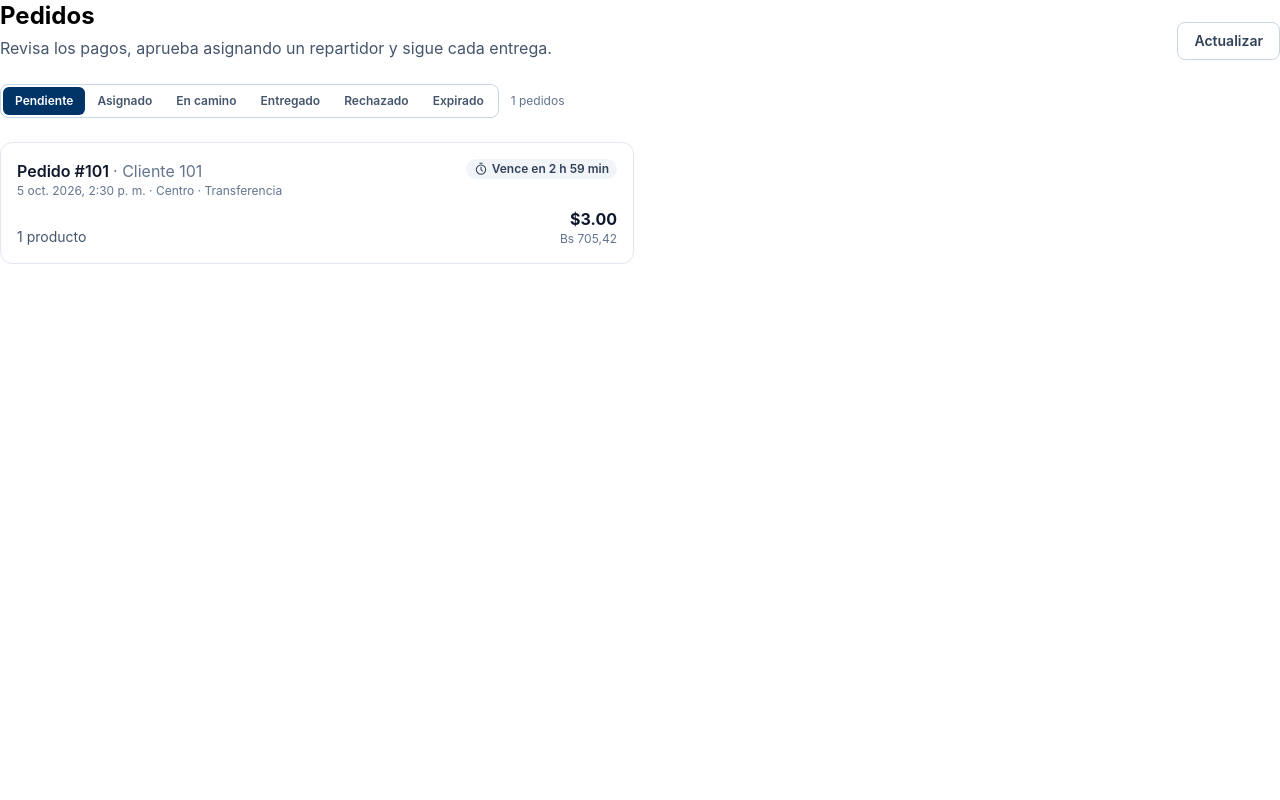
Test: Pedidos: detalle › el botón Cerrar cierra el detalle
Step 1. Click the button "Pedido #101" → (51,171), box [0, 142, 634, 264]
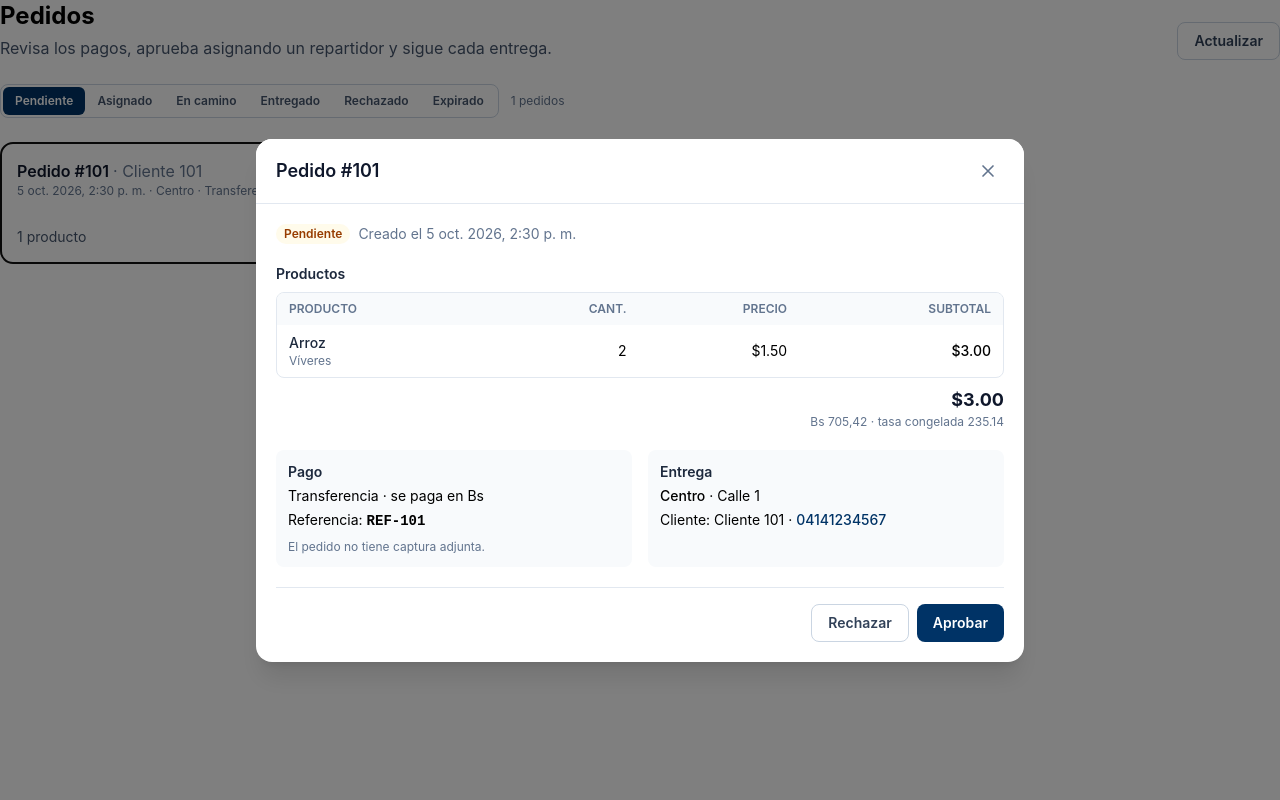
Step 2. Click the button named "Cerrar" → (988,170), box [972, 154, 1004, 186]
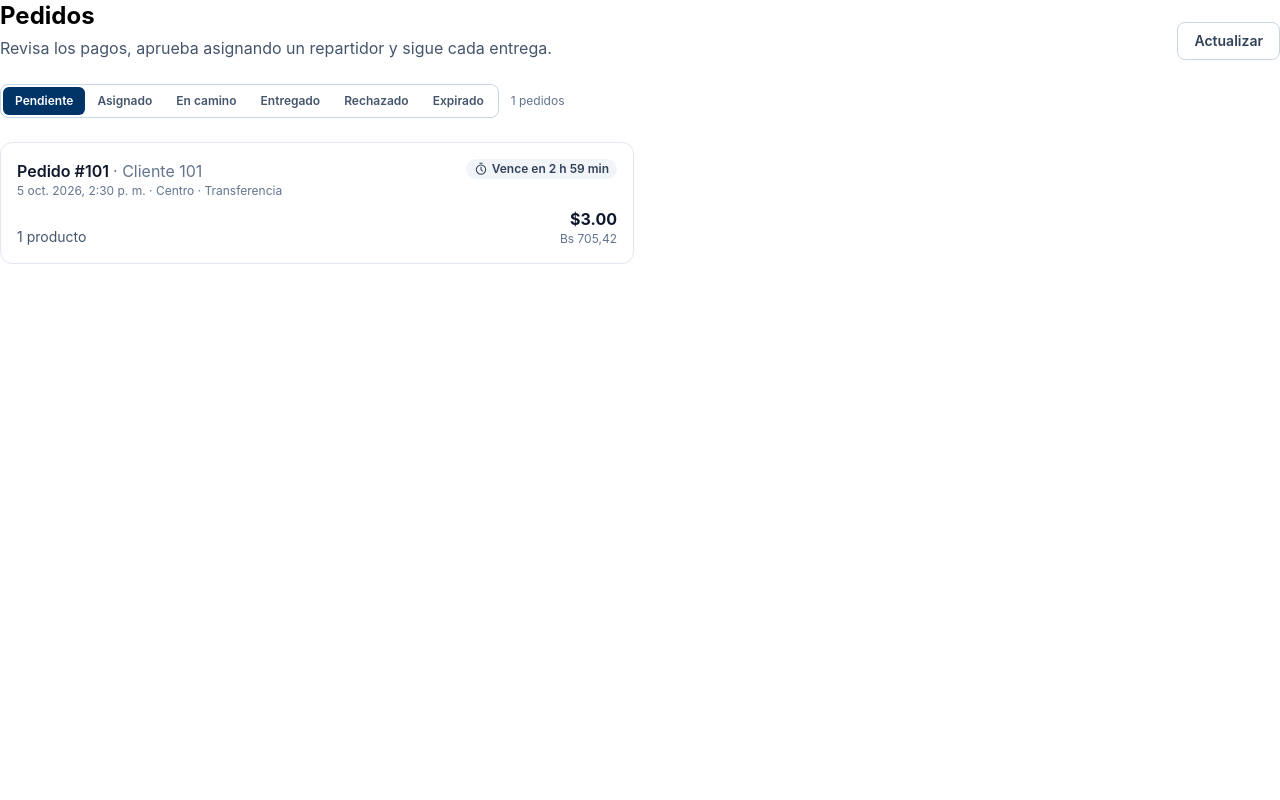
Expected: the dialog is gone
